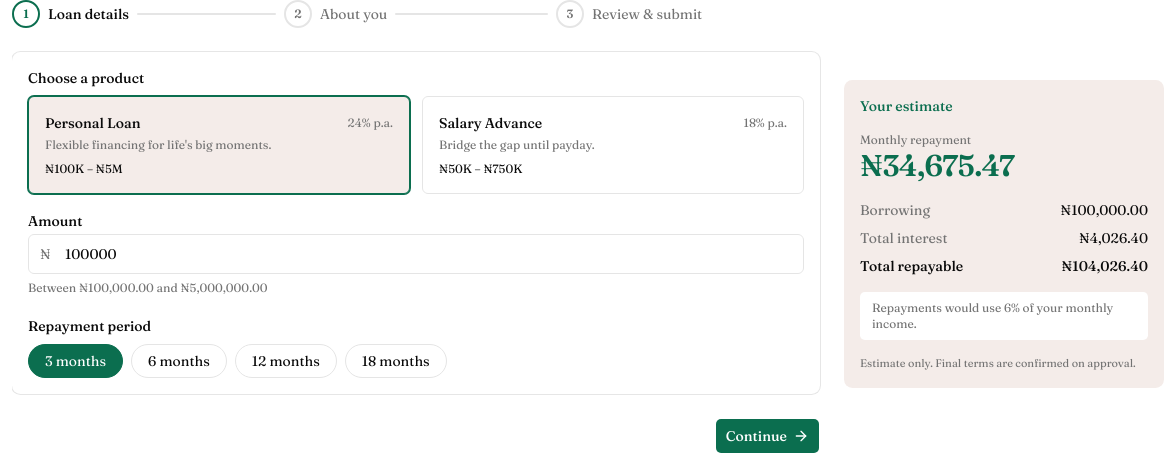
ApplicationForm › requires a BVN for tenants that enforce it
This screenshot has width=1164, height=471.
Click the button "Continue".
click(767, 436)  # box [715,418,820,454]
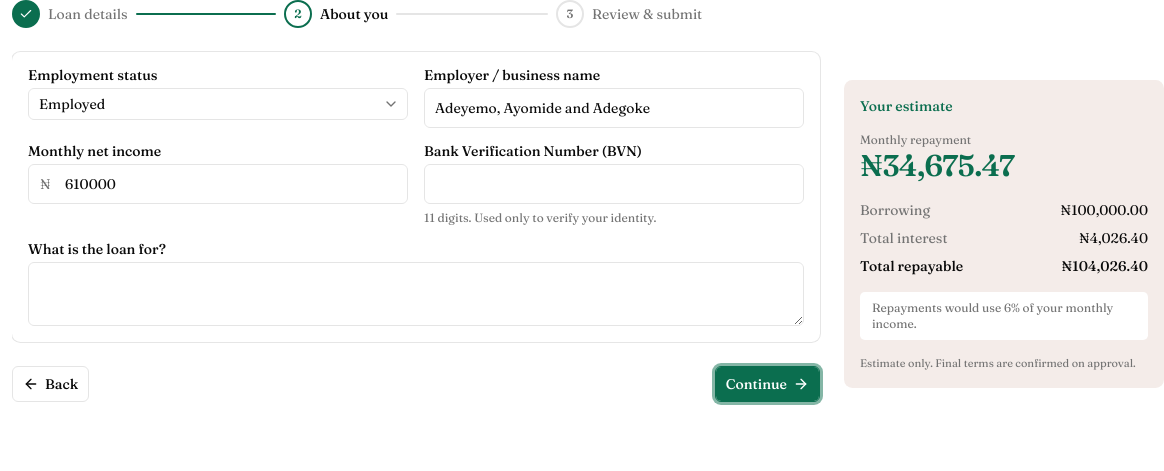
Type "Expanding my tailoring shop" into the text box labelled "What is the loan for?".
click(416, 294); type("Expanding my tailoring shop")  # box [28,262,804,326]
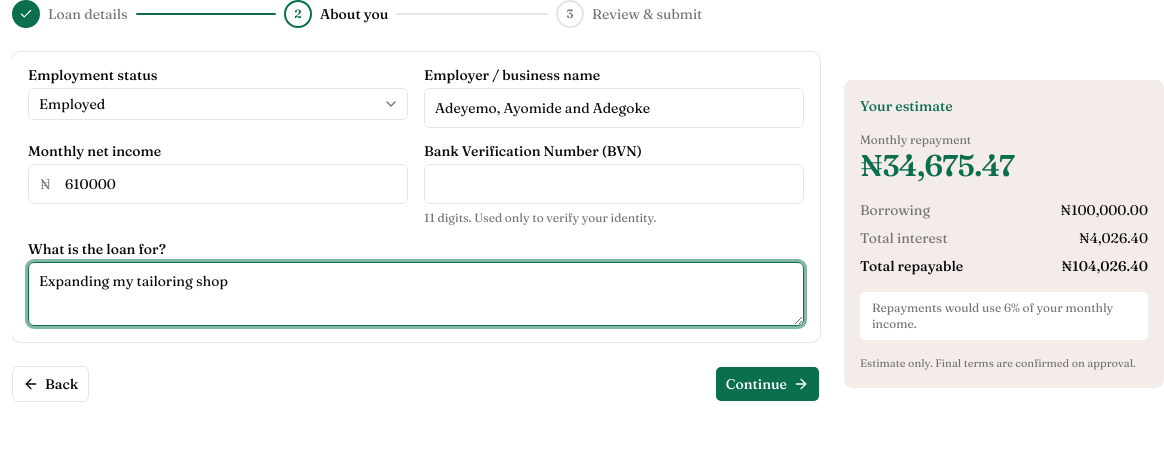
Click the button "Continue".
click(767, 384)  # box [715,366,820,402]
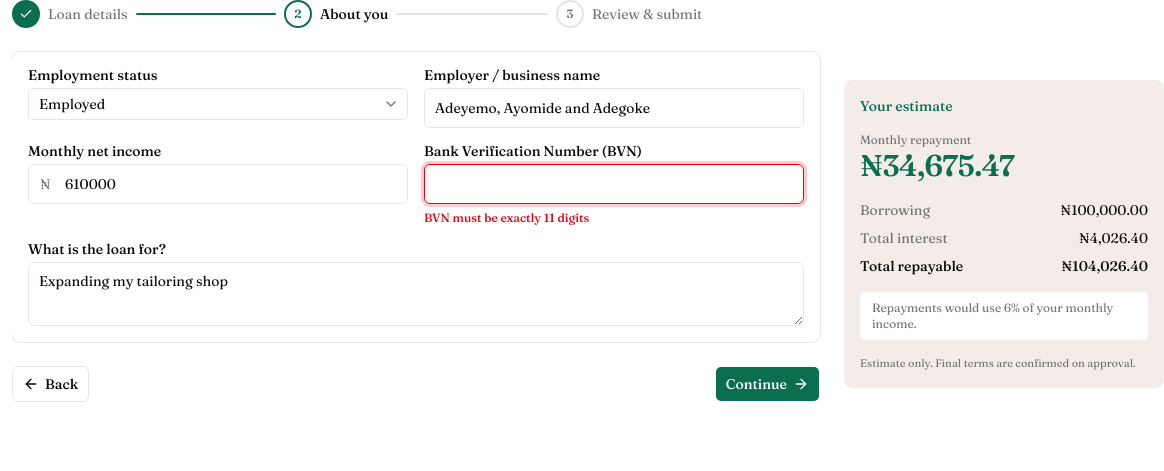
Check: the text "BVN must be exactly 11 digits" is shown, box [424,210,589,225]
